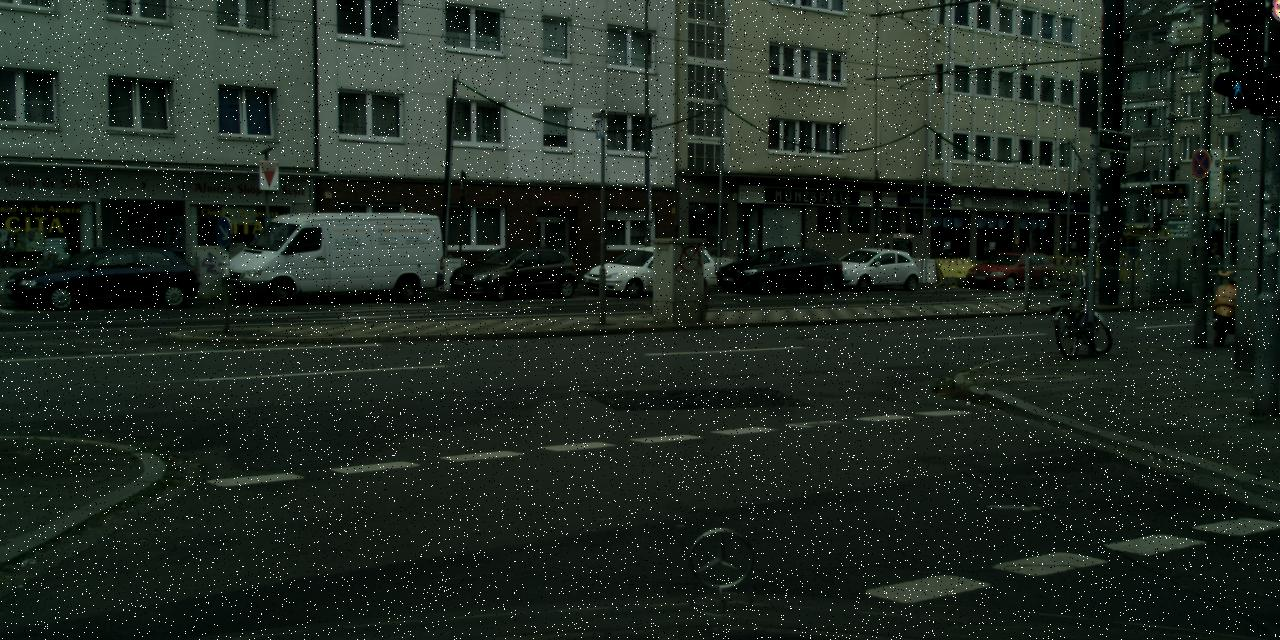ped: (1201, 235, 1226, 298)
